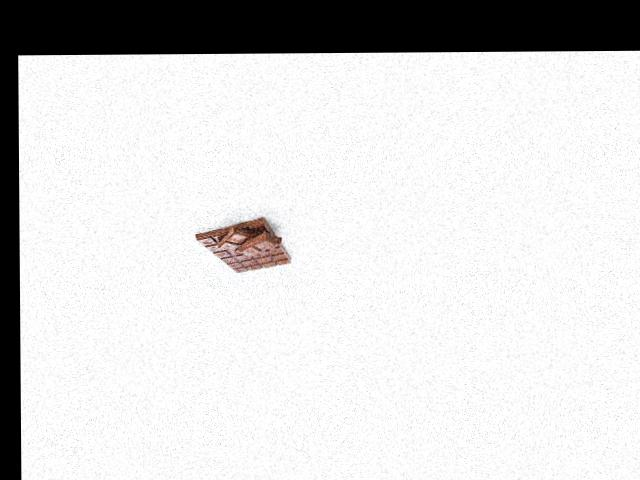chocolate: (194, 212, 292, 277)
